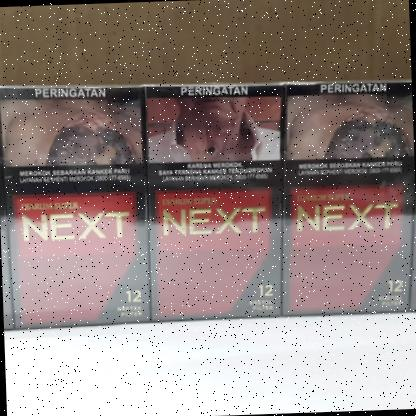bungkus rokok: (0, 74, 151, 328), (143, 79, 294, 324), (270, 74, 416, 324)
